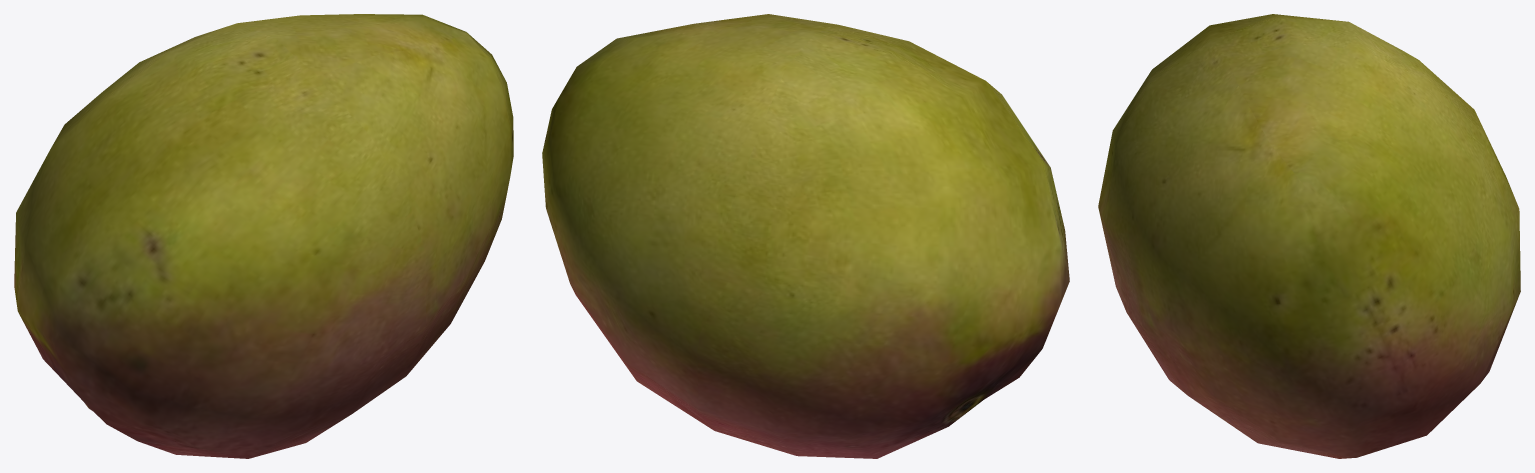
The model's file is A57_Mango_low.fbx.
The picture shows the model from 3 angles, left to right: view 1: azimuth 30°, elevation 25°; view 2: azimuth 150°, elevation 25°; view 3: azimuth 270°, elevation 25°; orthographic projection. The views are drawn at different scales.
Visible parts, largest first — view 1: A57_Mango_low; view 2: A57_Mango_low; view 3: A57_Mango_low.
Part boxes in pixels (x1,y1,x2,y2): A57_Mango_low: (14, 14, 513, 458); A57_Mango_low: (542, 14, 1069, 458); A57_Mango_low: (1098, 14, 1520, 458).
Size of the model in its own units: 11.05 by 8.48 by 8.9.
Materials: 1 (1 with a texture image).
